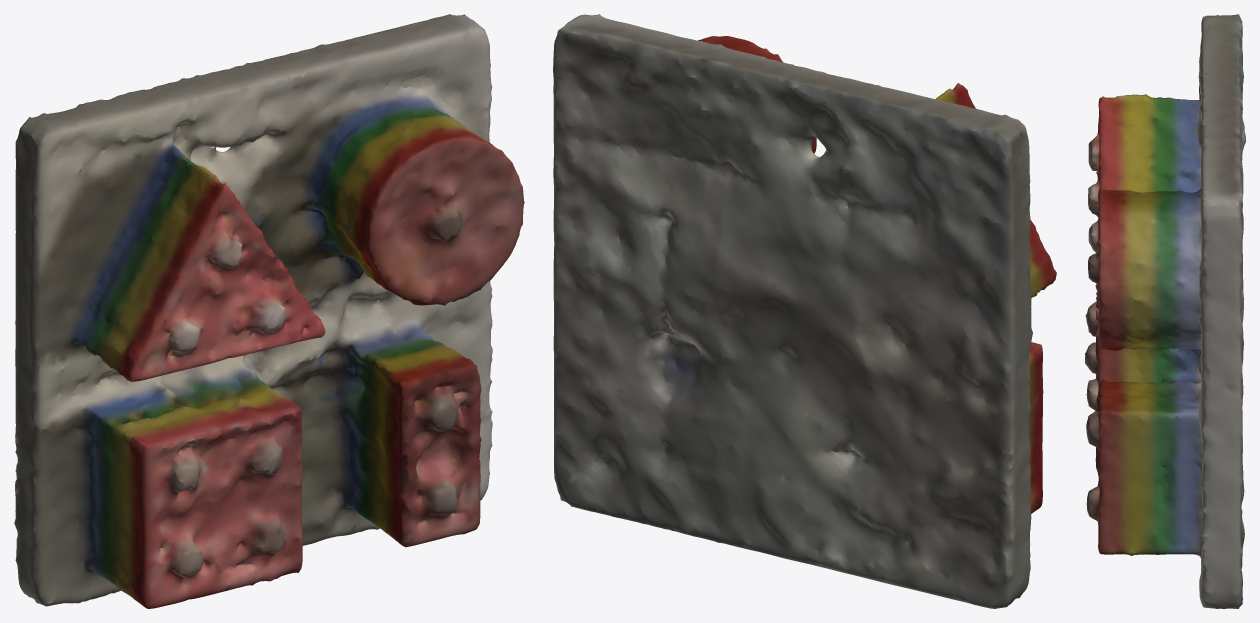
The model's file is sorting_board.glb.
The picture shows the model from 3 angles, left to right: view 1: azimuth 30°, elevation 25°; view 2: azimuth 150°, elevation 25°; view 3: azimuth 270°, elevation 25°; orthographic projection. The views are drawn at different scales.
Size of the model in its own units: 0.9951 by 0.9925 by 0.3474.
